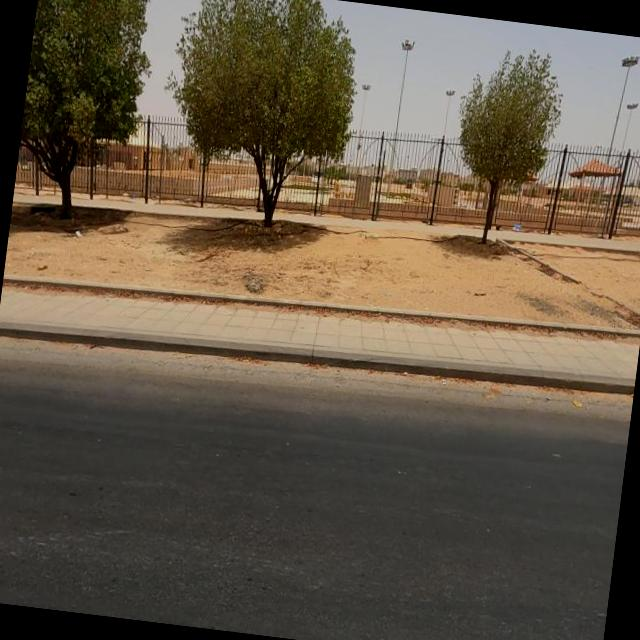debris: (46, 195, 112, 265), (490, 181, 544, 264)
